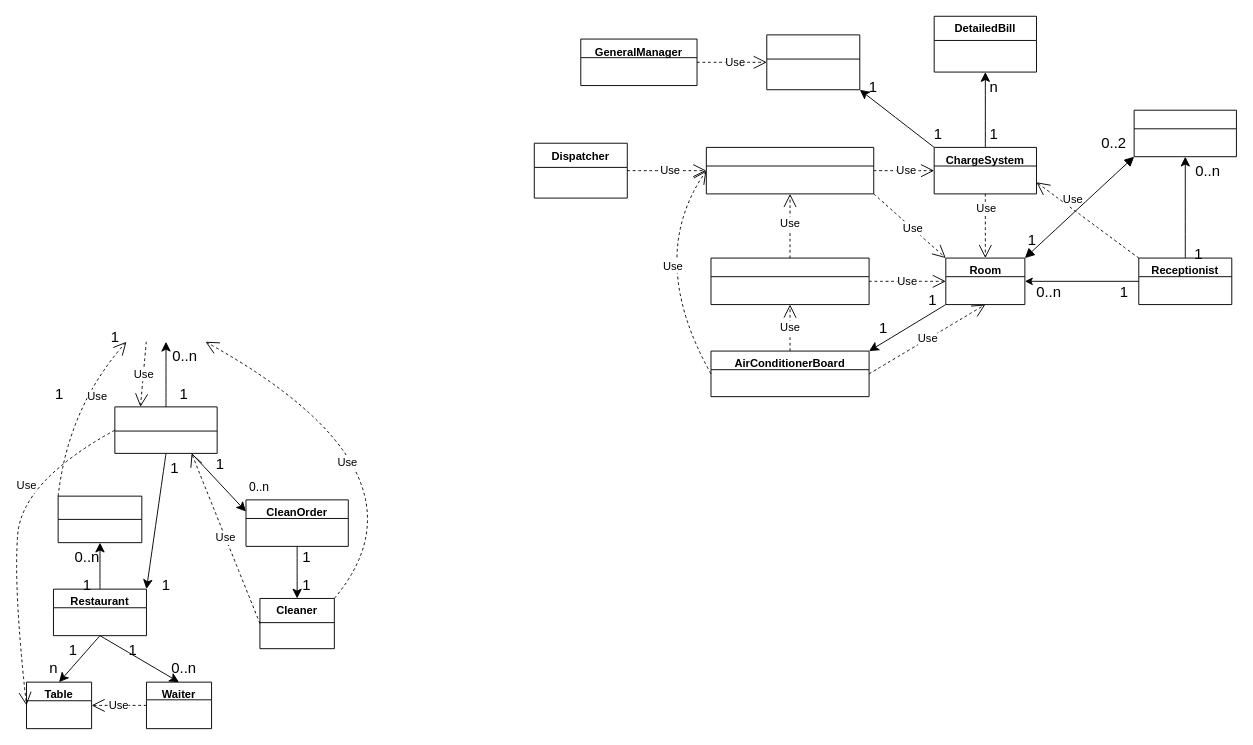
This 1253x745 diagram has some shape labels left out. The centre of each missing label's shape, as x and y in pixels:
AirConditionerManager: the point at 789,281
CentralizedAirConditioner: the point at 789,170
Guest: the point at 1184,133
Order: the point at 99,519
OrderSystem: the point at 165,429
ReportForm: the point at 813,62
